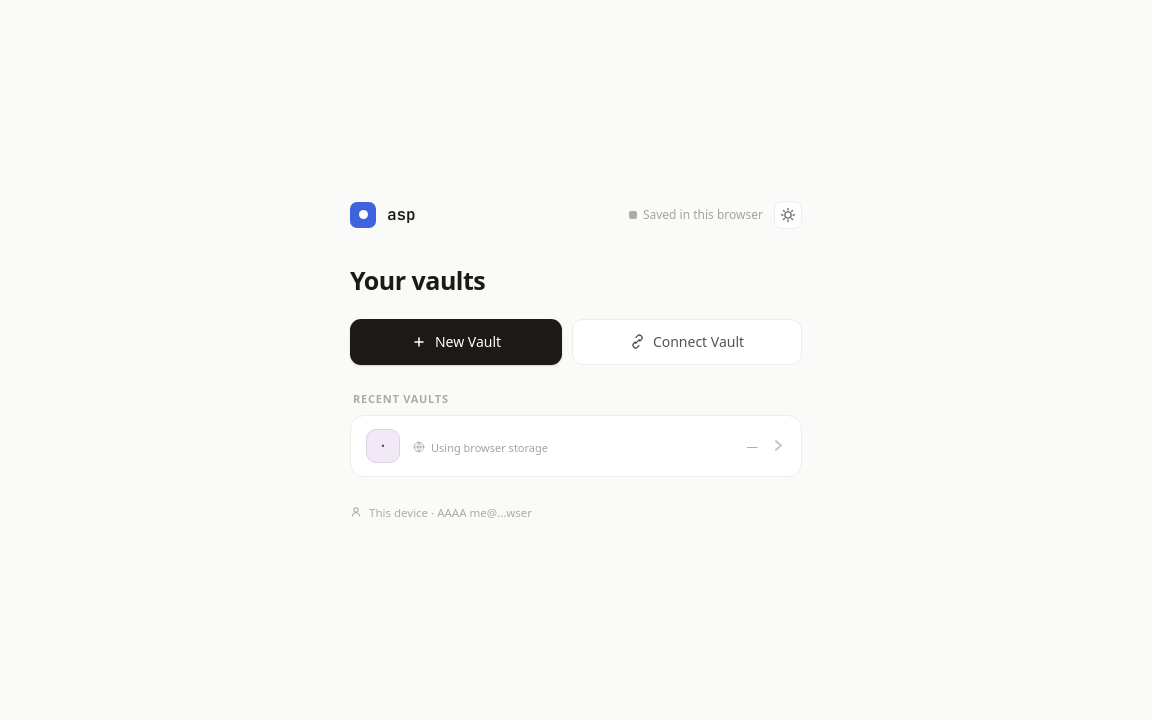
Test: web live-sync: a held-open connection pushes peer changes into the UI › opens a live connection for the active web vault
This screenshot has width=1152, height=720.
Click the text "Using browser storage": (490, 447) [431,440,548,454]
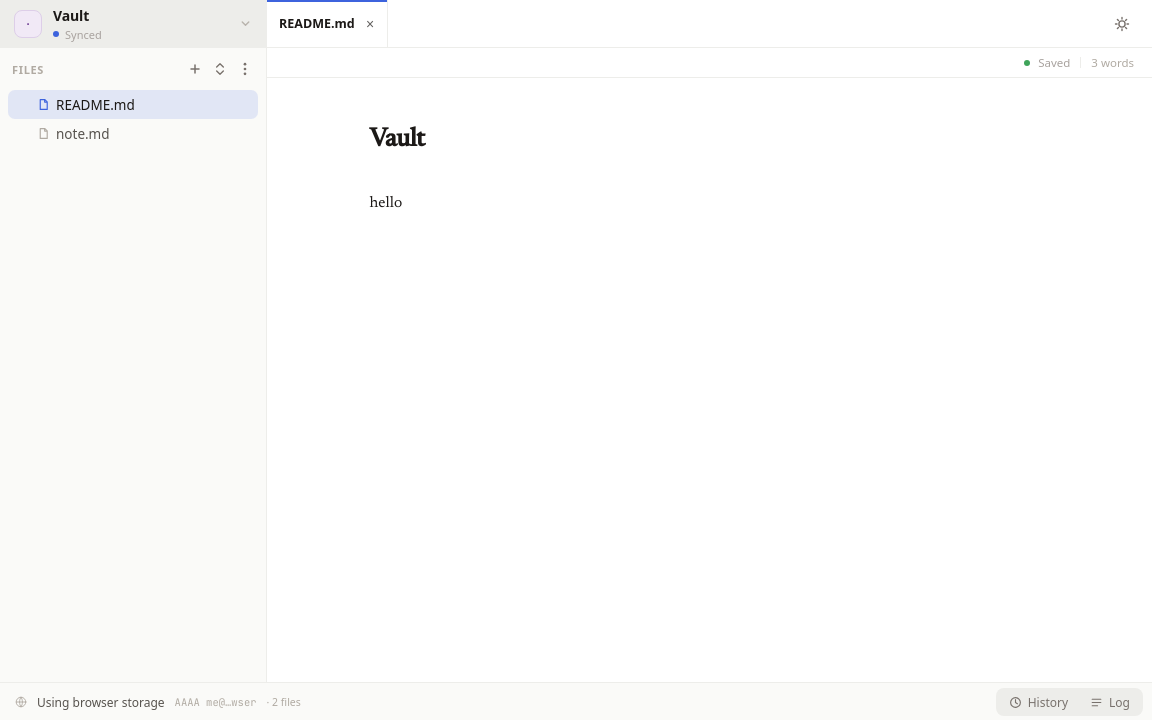
Expected: the text "Files" is shown, [12,62,44,76]
